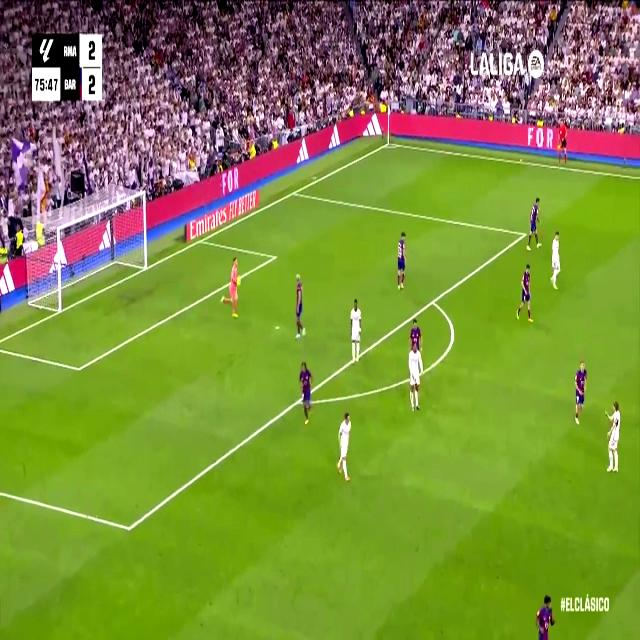bigarea_bottom_inner: (122, 512, 136, 544)
bigarea_top_outter: (290, 185, 298, 200)
bottom_arc_area_intersection: (294, 391, 304, 411)
corner: (382, 136, 394, 150)
smallarea_bottom_inner: (74, 357, 84, 380)
smallarea_top_inner: (271, 248, 278, 264)
top_arc_area_intersection: (429, 292, 437, 310)
